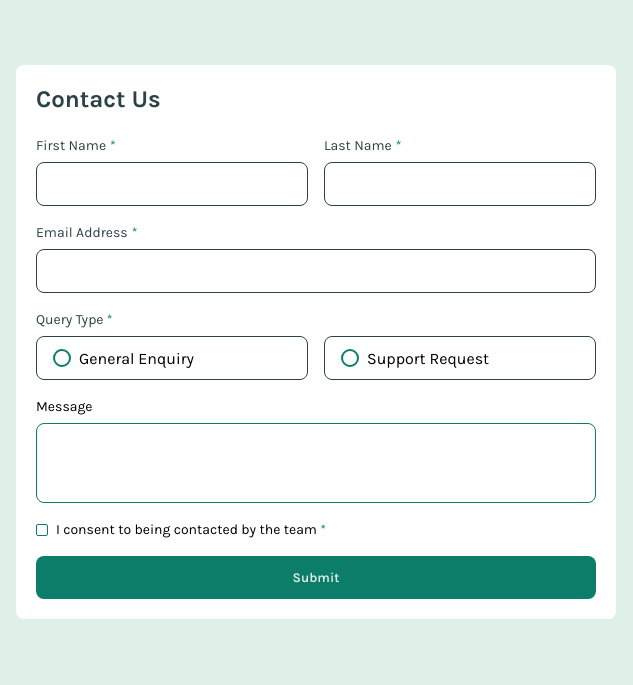
Test: Form Input › should be able to show error message if the input is invalid
The image size is (633, 685).
Click the button "Submit" at {"x": 316, "y": 578}, box 36,556 -> 596,599
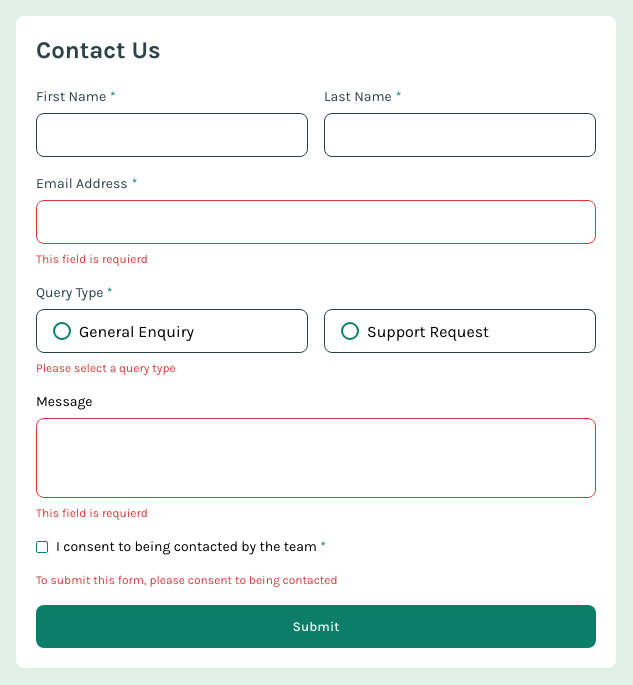
Expected: the text "This field is requierd" below "Email Address" is shown, 36,252 -> 148,266
